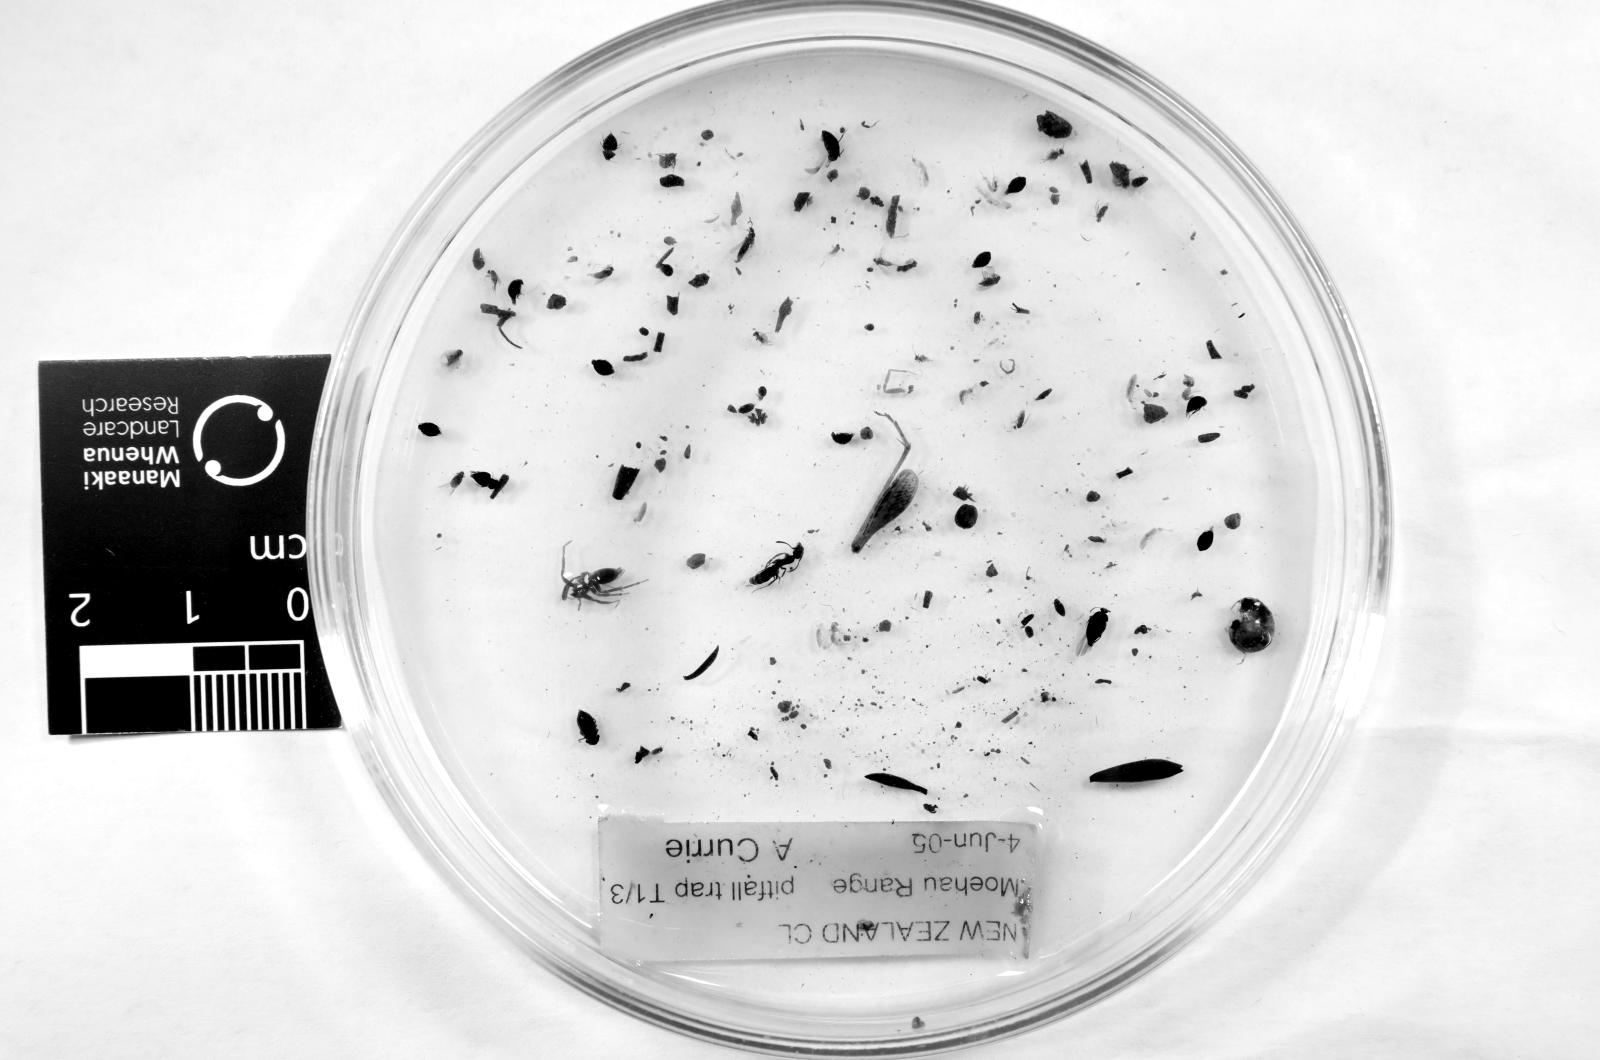amphipoda: (1229, 600, 1275, 655)
araneae: (563, 543, 634, 608)
coleoptera: (1078, 608, 1109, 655), (578, 711, 600, 745), (472, 472, 500, 491), (600, 134, 618, 159), (1187, 394, 1206, 416), (506, 279, 522, 304), (1197, 528, 1212, 552), (1006, 177, 1028, 195), (451, 472, 466, 491)
formicidae: (750, 547, 803, 587)
